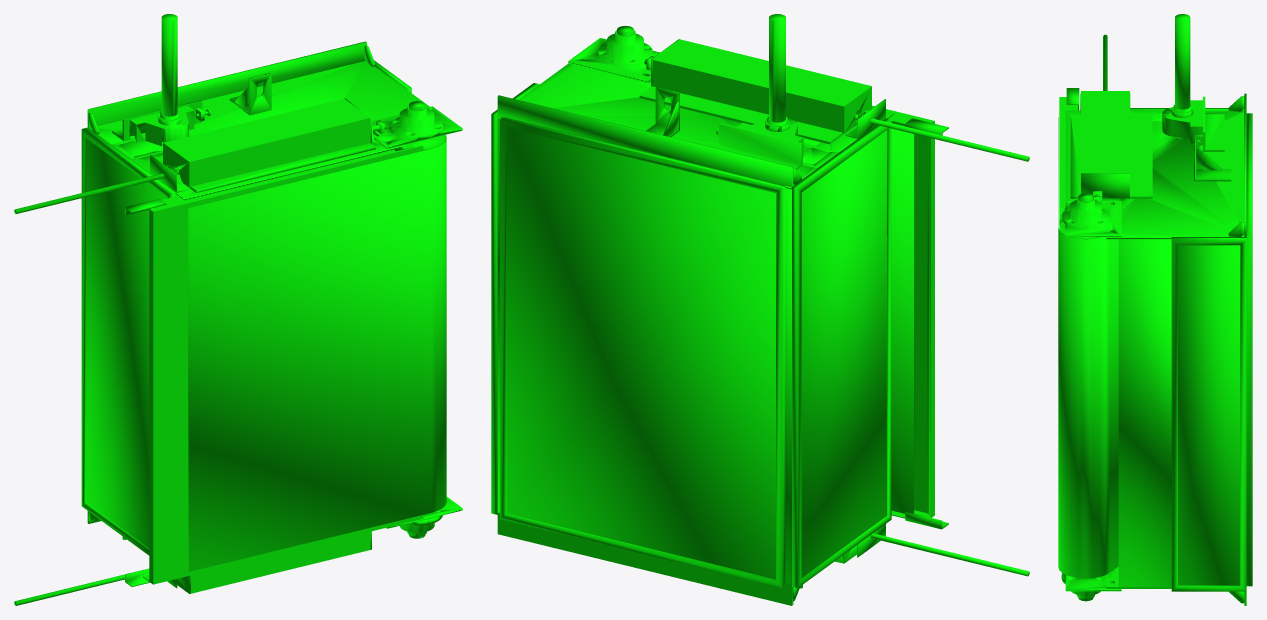
The model's file is DRI-12-60.fbx.
3 views of the same model, side by side, from view 1: azimuth 30°, elevation 25°; view 2: azimuth 150°, elevation 25°; view 3: azimuth 270°, elevation 25° (orthographic). The views are drawn at different scales.
Parts seen in each view (by area): view 1: polySurface961; view 2: polySurface961; view 3: polySurface961.
Boxes of the visible parts, x1=… form: polySurface961: x1=14, y1=14, x2=462, y2=605; polySurface961: x1=491, y1=14, x2=1029, y2=605; polySurface961: x1=1058, y1=14, x2=1252, y2=605.
Bounding box in the file's own units: 74.5 × 87.21 × 31.19.
